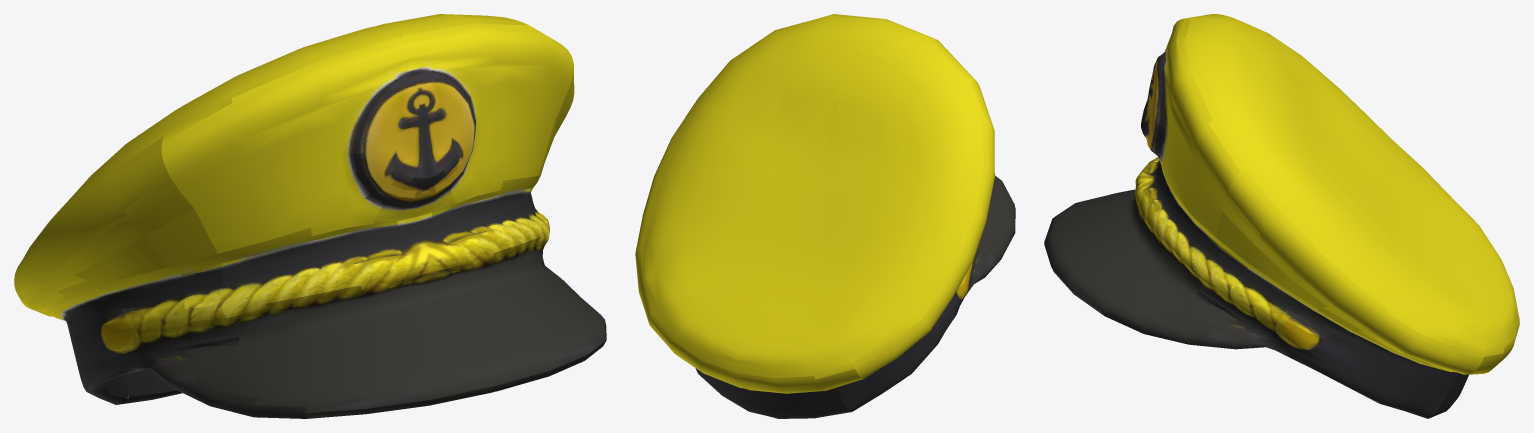
The model's file is Captain-Gold.glb.
3 renders of one model, left to right at view 1: azimuth 30°, elevation 25°; view 2: azimuth 150°, elevation 25°; view 3: azimuth 270°, elevation 25°, orthographic. The views are drawn at different scales.
Visible parts, largest first — view 1: Captain-Gold; view 2: Captain-Gold; view 3: Captain-Gold.
Part boxes in pixels (<box>): Captain-Gold: <box>14,14,606,418</box>; Captain-Gold: <box>635,14,1015,418</box>; Captain-Gold: <box>1044,14,1519,418</box>.
Bounding box in the file's own units: 0.5636 × 0.5258 × 0.6411.
Materials: 1 (1 with a texture image).
